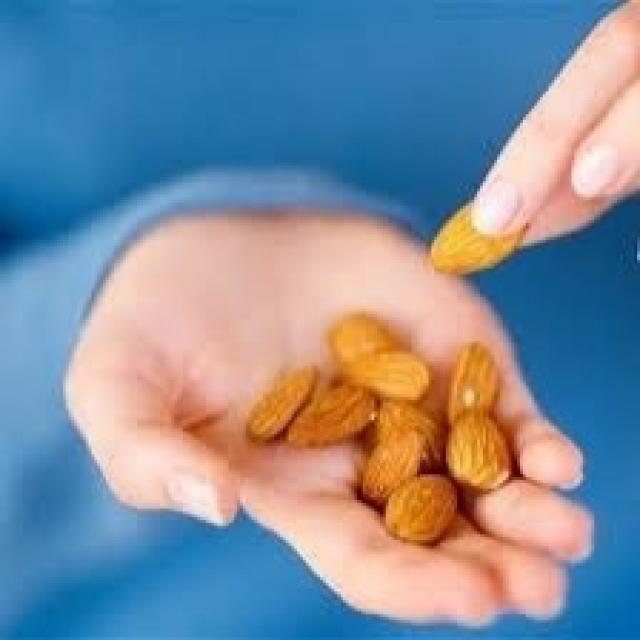almond: (427, 200, 528, 275), (286, 384, 379, 448), (246, 365, 323, 440), (448, 406, 512, 493), (358, 428, 426, 506), (446, 339, 502, 431), (385, 473, 458, 543), (332, 353, 430, 402)
